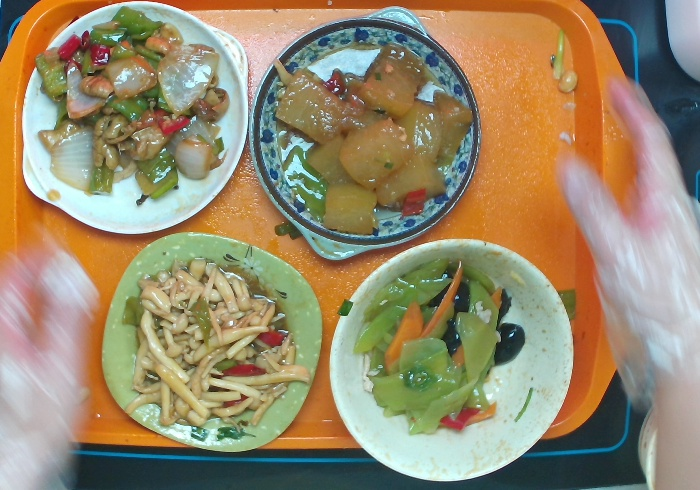NLDX-Bai_Se_Shuang_Er_Die: (20, 1, 250, 236)
NLDX-Bai_Se_Yuan_Wan: (322, 230, 578, 485)
NLDX-Lv_Hua_Fang_Die: (97, 229, 323, 459)
NLDX-Qing_Hua_Shuang_Er_Die: (243, 3, 486, 262)
